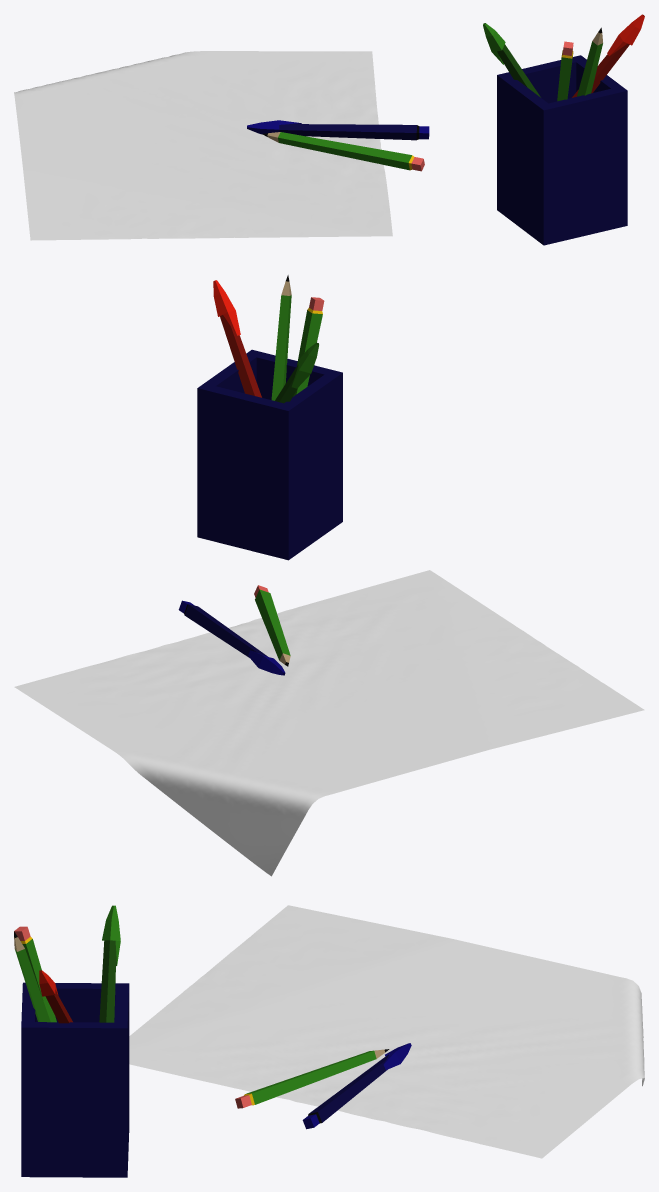
Rendered from Pens.glb.
3 renders of one model, top to bottom at view 1: azimuth 30°, elevation 25°; view 2: azimuth 150°, elevation 25°; view 3: azimuth 270°, elevation 25°, orthographic. The views are drawn at different scales.
Parts seen in each view (by area): view 1: Pens; view 2: Pens; view 3: Pens.
Boxes of the visible parts, left/top/right/bottom form: Pens: left=14, top=14, right=644, bottom=245; Pens: left=14, top=275, right=644, bottom=876; Pens: left=14, top=905, right=644, bottom=1177.
Size of the model in its own units: 1.23 by 0.6364 by 1.21.
